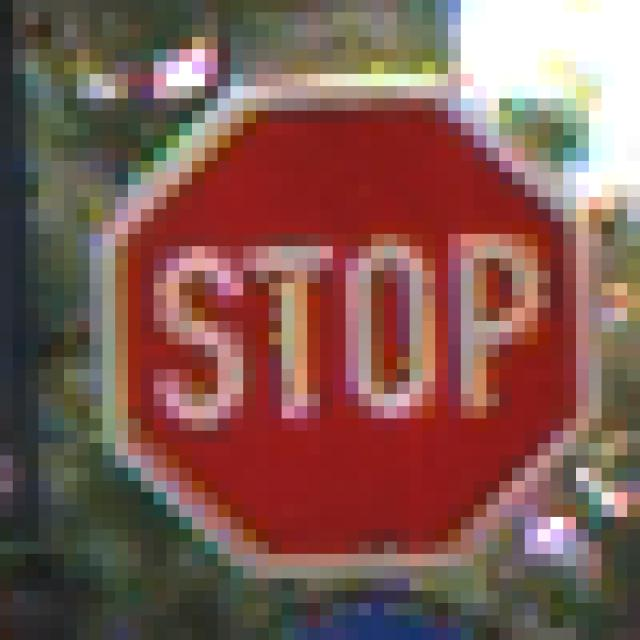STOP: (78, 75, 577, 579)
